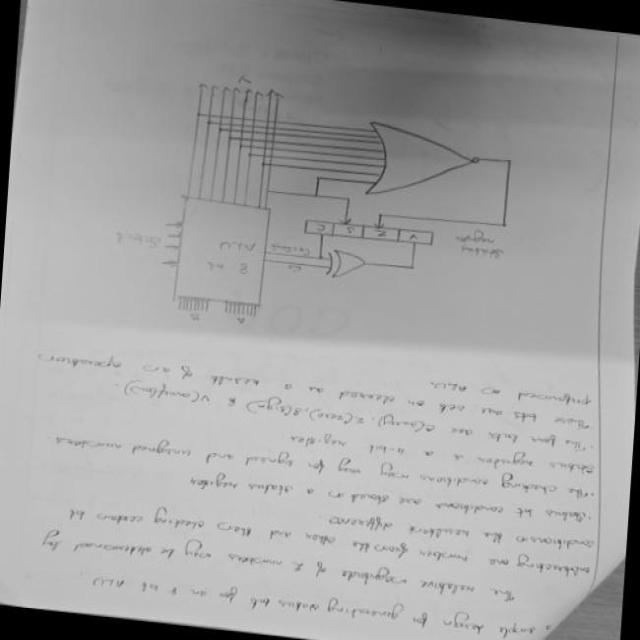Figure Detection - v3 Dataset Version2: (86, 45, 559, 376)
